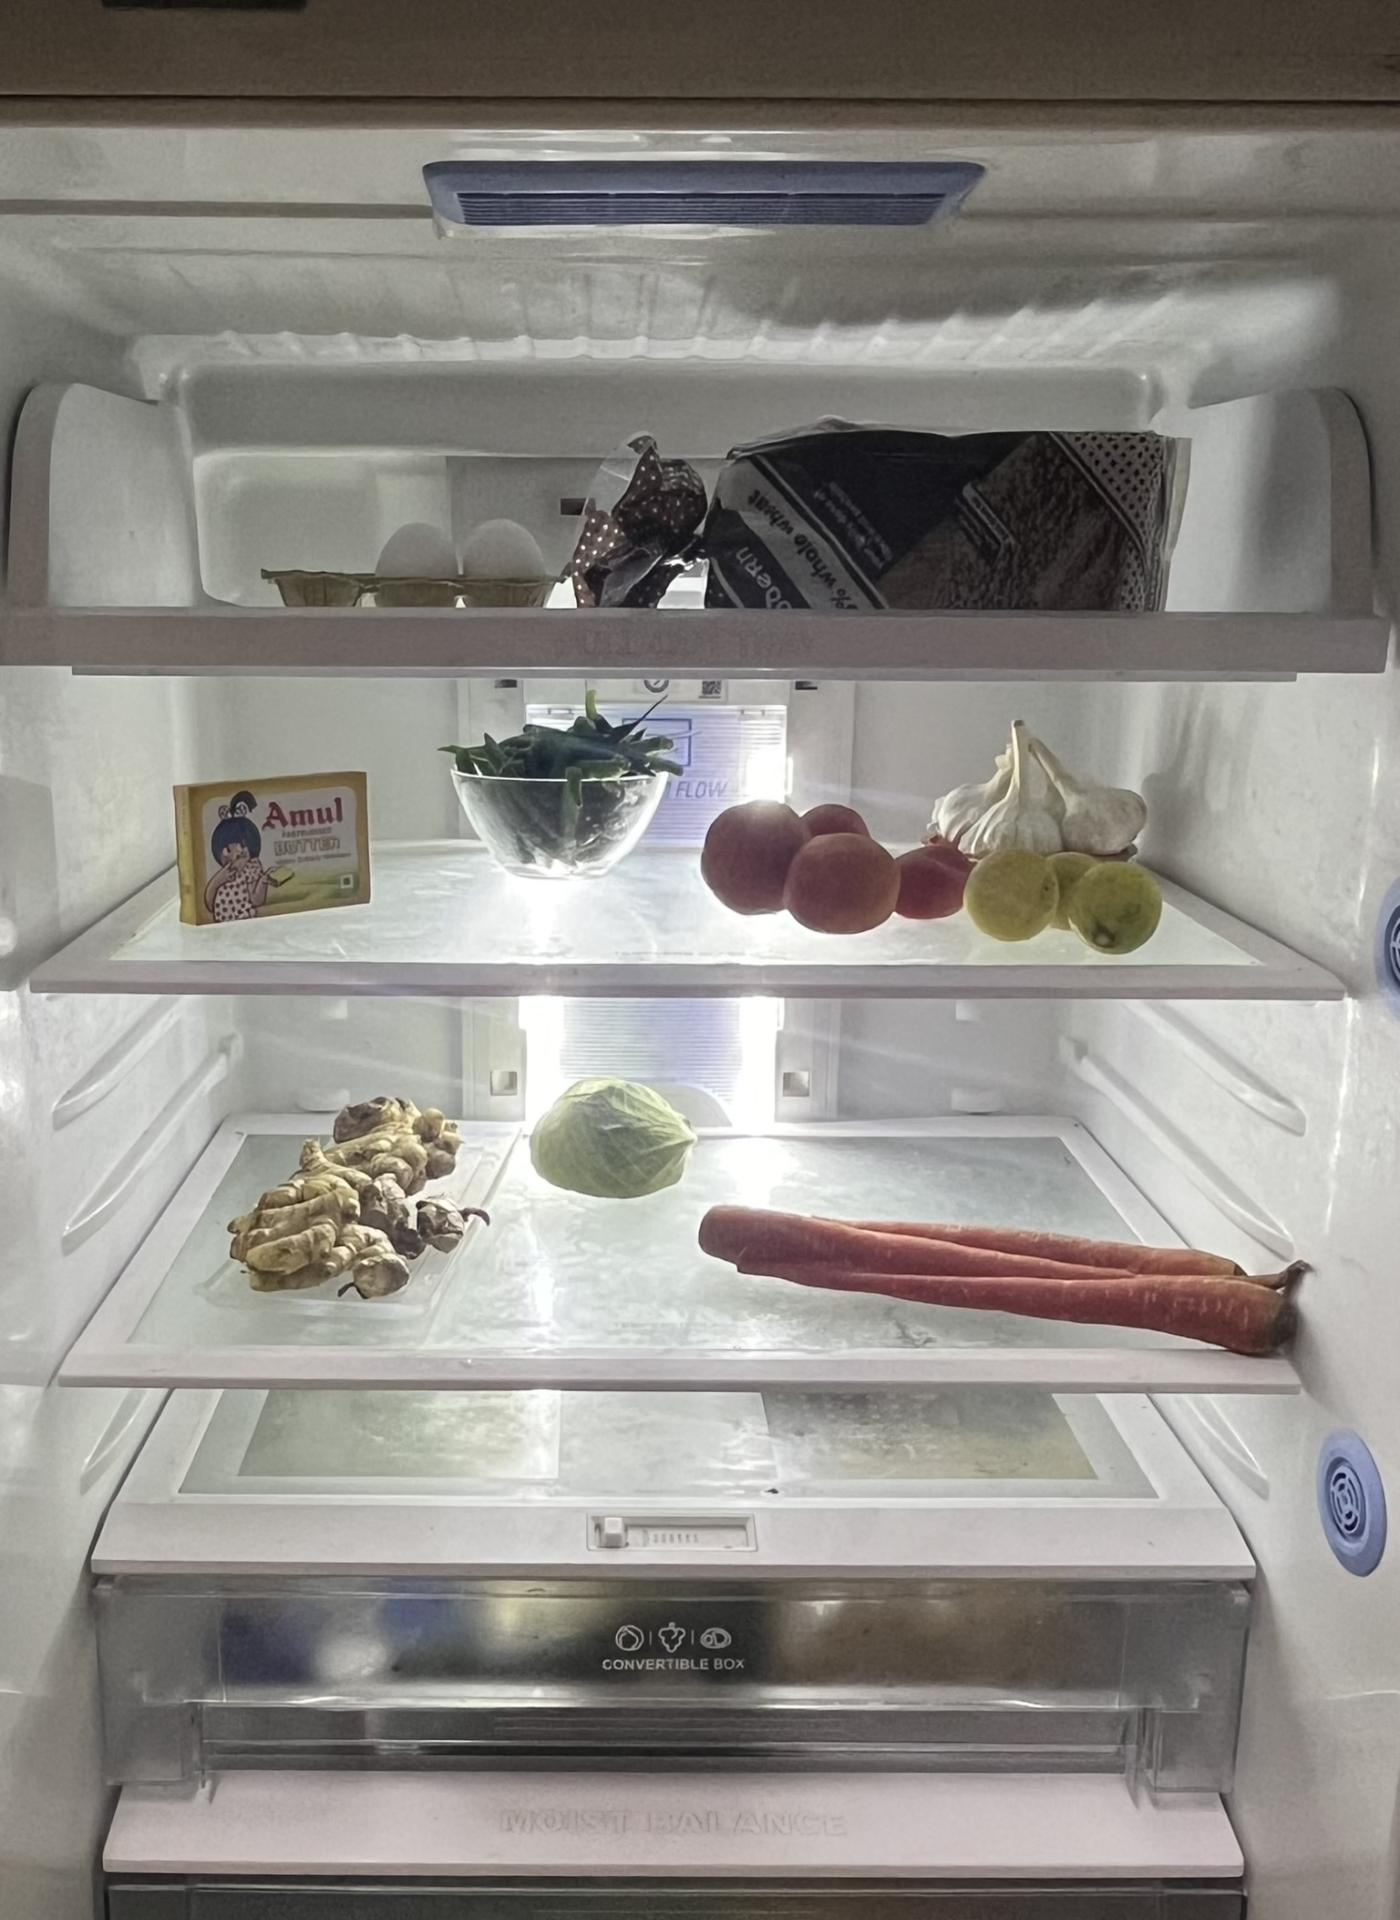bread: (571, 431, 1191, 607)
butter: (182, 765, 376, 927)
cabbage: (520, 1073, 698, 1199)
carrots: (692, 1200, 1296, 1355)
chillies: (455, 717, 680, 881)
egg: (380, 513, 541, 599)
garlic: (933, 720, 1147, 865)
ginger: (225, 1094, 476, 1297)
lemon: (963, 850, 1164, 948)
tomato: (699, 799, 974, 932)
